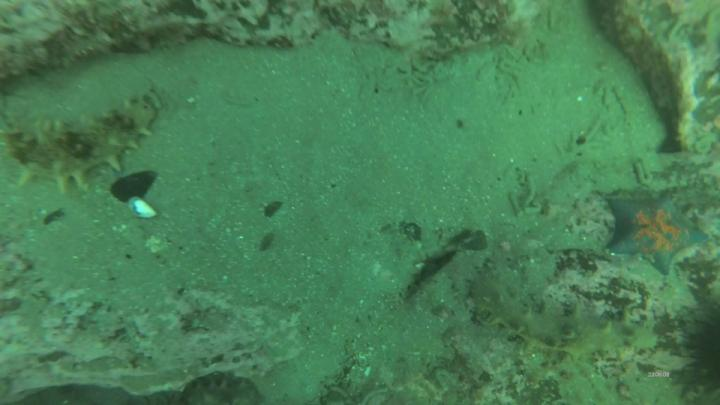holothurian: (1, 87, 166, 195), (471, 281, 662, 371)
starfish: (606, 189, 712, 279)
